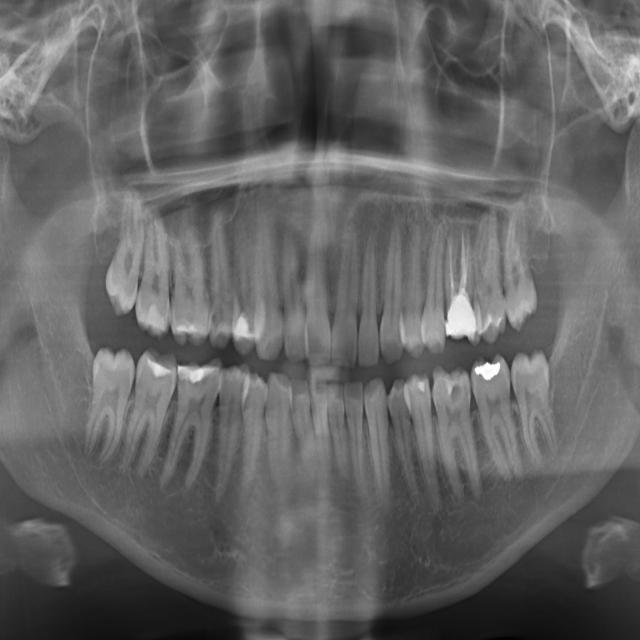AmalgamRestoration: (473, 358, 500, 385)
CompositeResinRestoration: (447, 300, 480, 342), (145, 348, 175, 383), (174, 315, 206, 345), (234, 304, 253, 349), (147, 301, 170, 338), (181, 362, 207, 381), (417, 378, 426, 396)
DentalCaries: (206, 311, 222, 346), (177, 370, 196, 392), (450, 375, 463, 407), (429, 371, 440, 403)
RootCanalTreatment: (447, 220, 474, 297)
